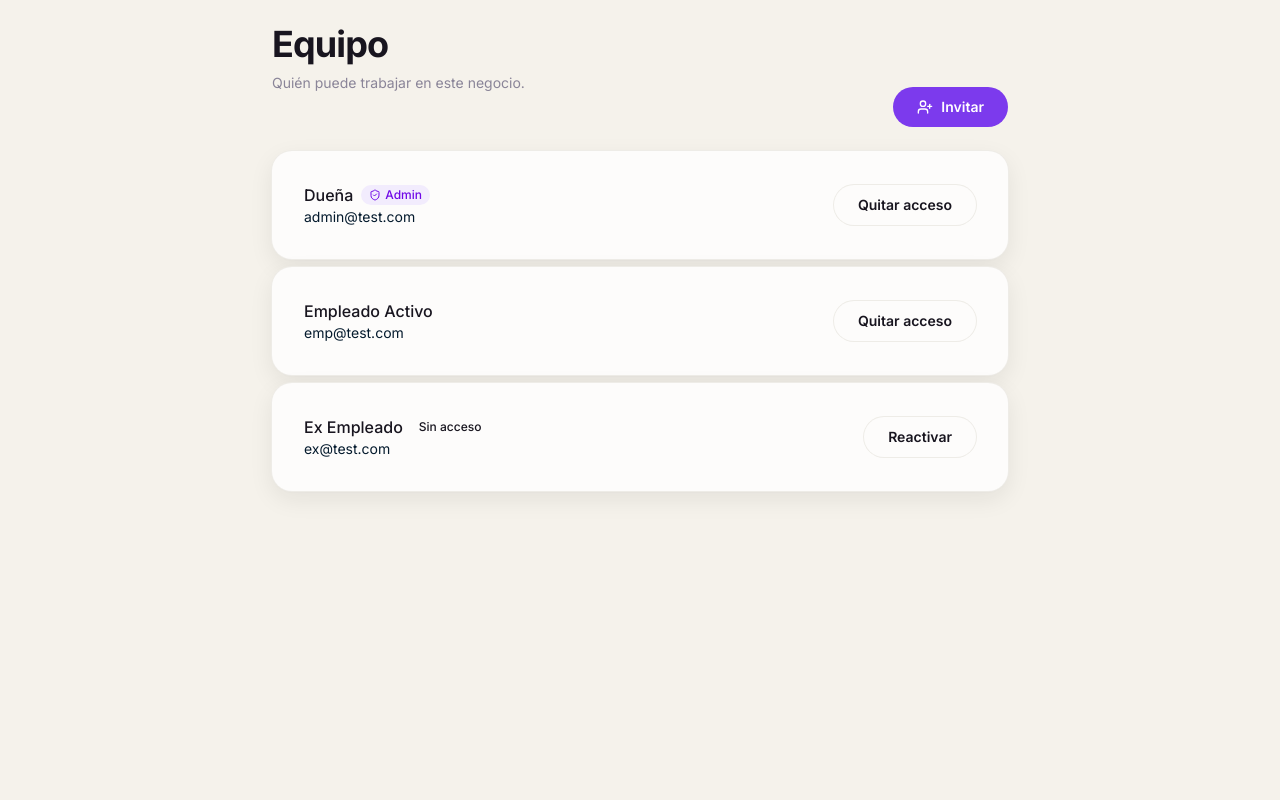
EquipoPage — invitación › el código no sobrevive al cierre del diálogo
Click the button "Invitar". click: coordinates (951, 107)
box: [893,87,1008,127]
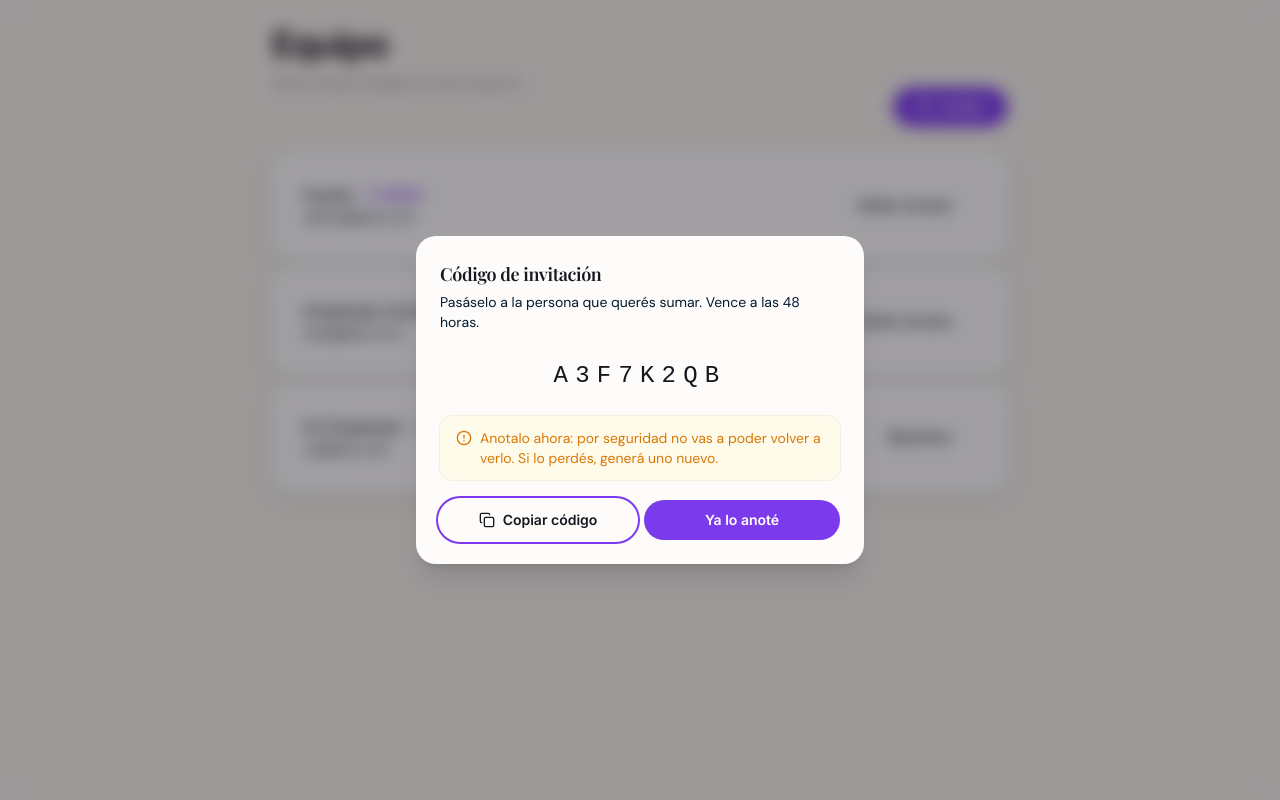
Expected: the text "A3F7K2QB" is shown, [554,362,726,389]
Click the button "Ya lo anoté". click: coordinates (742, 520)
box: [644,500,840,540]
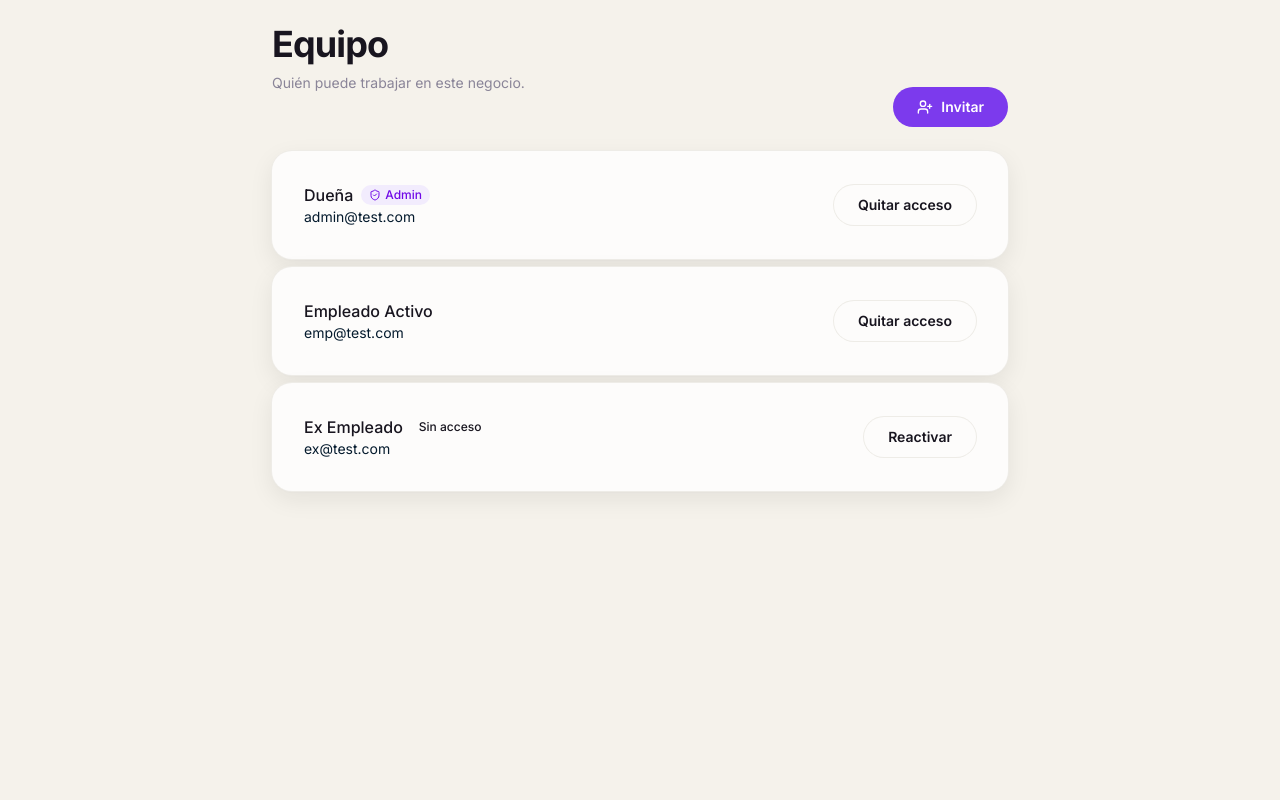
Expected: the text with test id "codigo-invitacion" is gone
Expected: the text "A3F7K2QB" is gone
